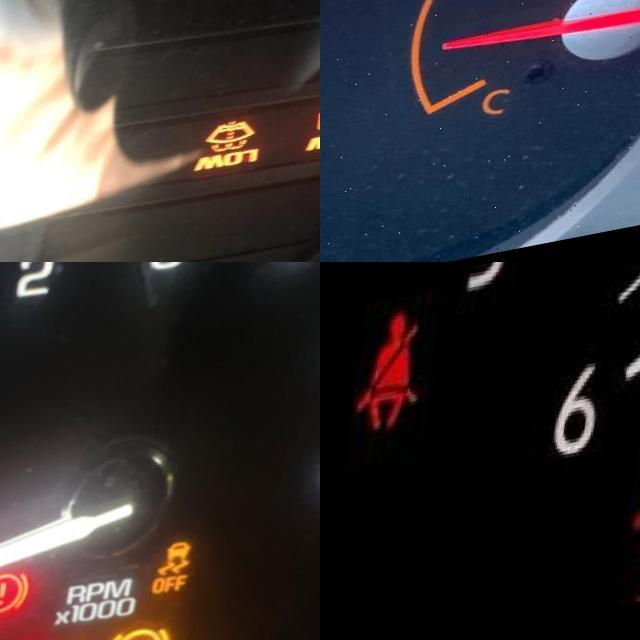Seat Belt: (364, 318, 437, 447)
Washer Fluid: (207, 127, 264, 168)
